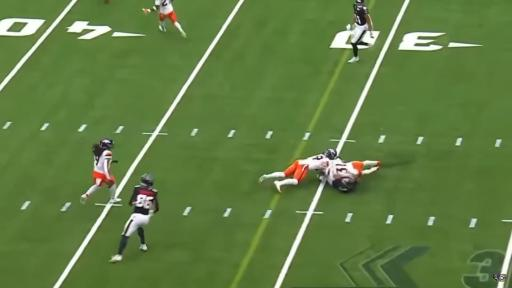Helmet: (99, 139, 114, 149), (141, 174, 153, 186), (324, 149, 337, 159), (347, 179, 357, 188), (355, 0, 364, 7), (319, 172, 325, 181)
Jersey: (326, 159, 358, 192), (130, 186, 159, 214), (298, 154, 328, 170), (94, 150, 112, 175), (334, 162, 362, 177), (354, 4, 368, 26), (155, 0, 173, 14)
Player: (110, 174, 159, 262), (259, 149, 337, 192), (81, 139, 121, 203), (320, 159, 380, 192), (347, 0, 373, 62), (143, 0, 186, 37), (319, 159, 358, 193)
